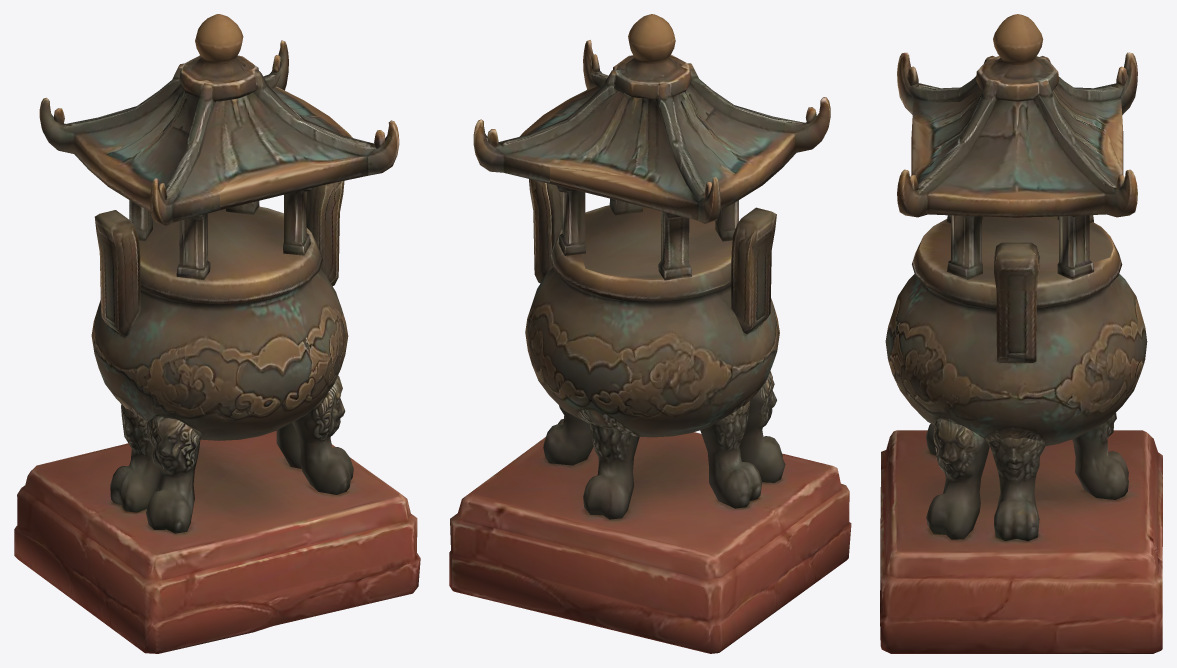
Rendered from SM_Prop_DesertIncenseBurner.glb.
The picture shows the model from 3 angles, left to right: view 1: azimuth 30°, elevation 25°; view 2: azimuth 150°, elevation 25°; view 3: azimuth 270°, elevation 25°; orthographic projection. The views are drawn at different scales.
Parts seen in each view (by area): view 1: SM_Prop_DesertIncenseBurner_LOD0; view 2: SM_Prop_DesertIncenseBurner_LOD0; view 3: SM_Prop_DesertIncenseBurner_LOD0.
Boxes of the visible parts, box(x1,y1,x2,y2) form: SM_Prop_DesertIncenseBurner_LOD0: box(14, 14, 420, 653); SM_Prop_DesertIncenseBurner_LOD0: box(449, 14, 851, 653); SM_Prop_DesertIncenseBurner_LOD0: box(880, 14, 1162, 653).
Size of what is drawn, in the model's own units: 1.33 by 2.6 by 1.16.
Materials: 1 (1 with a texture image).
